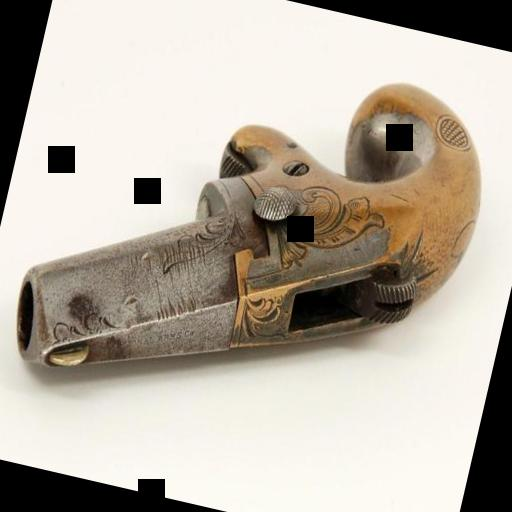Handgun: (0, 6, 507, 474)
